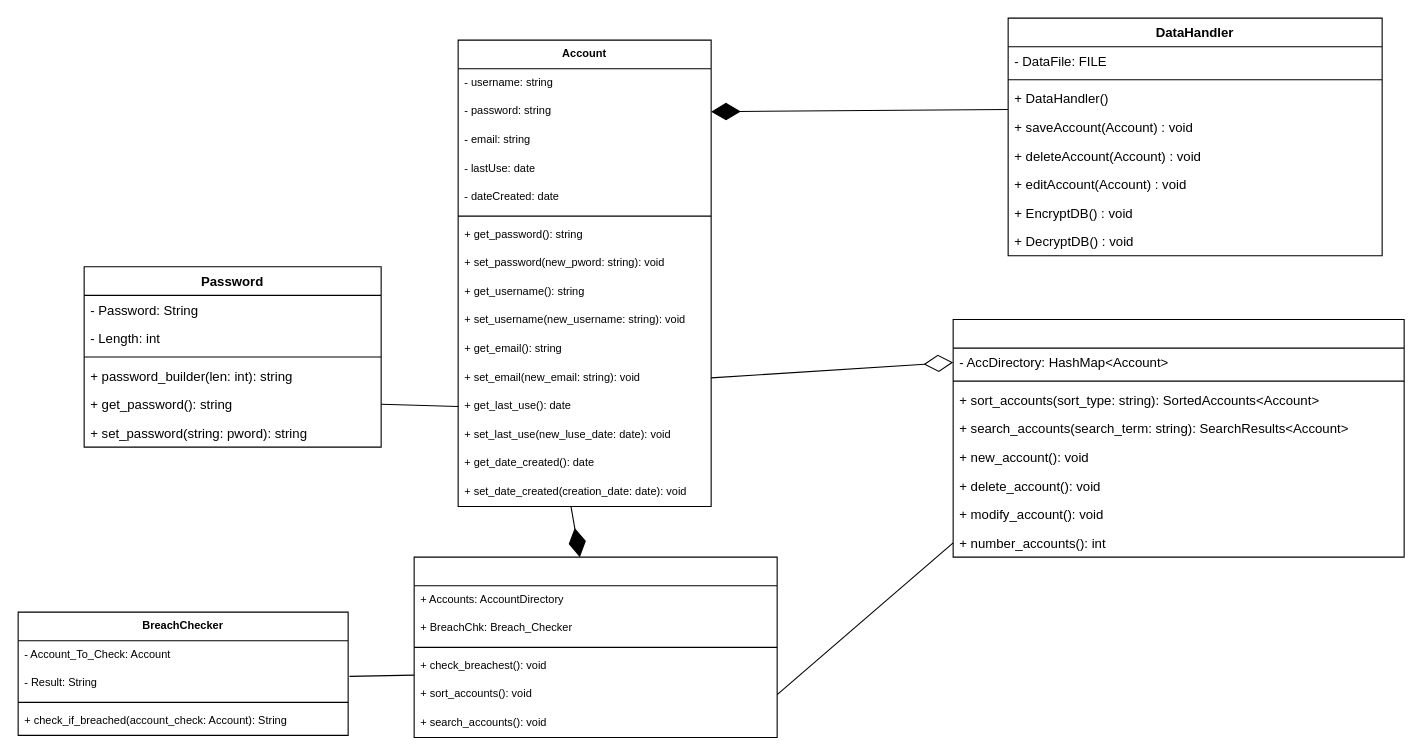
Image size: 1422x756. Some labels were removed from this diagram. Each missing label, with the box of its shape:
AccountDirectory: (952, 318, 1404, 557)
Main: (413, 556, 777, 738)
